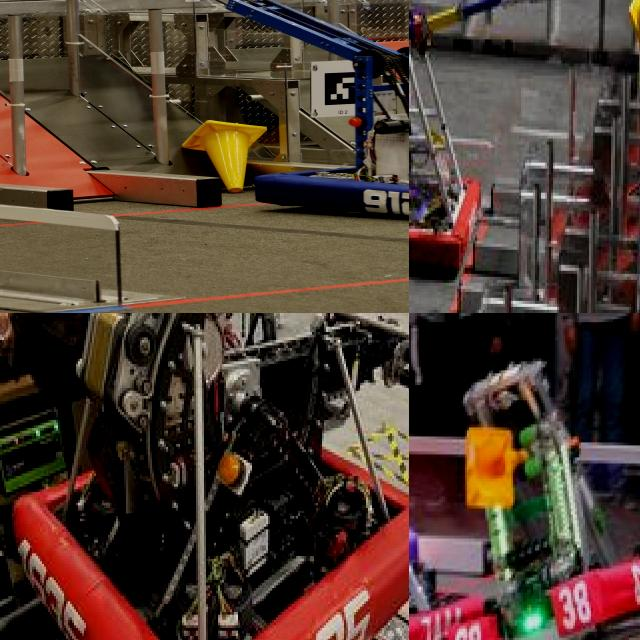FRC-Robots: (6, 313, 409, 640), (18, 0, 409, 220), (442, 349, 640, 640), (409, 0, 569, 282)
